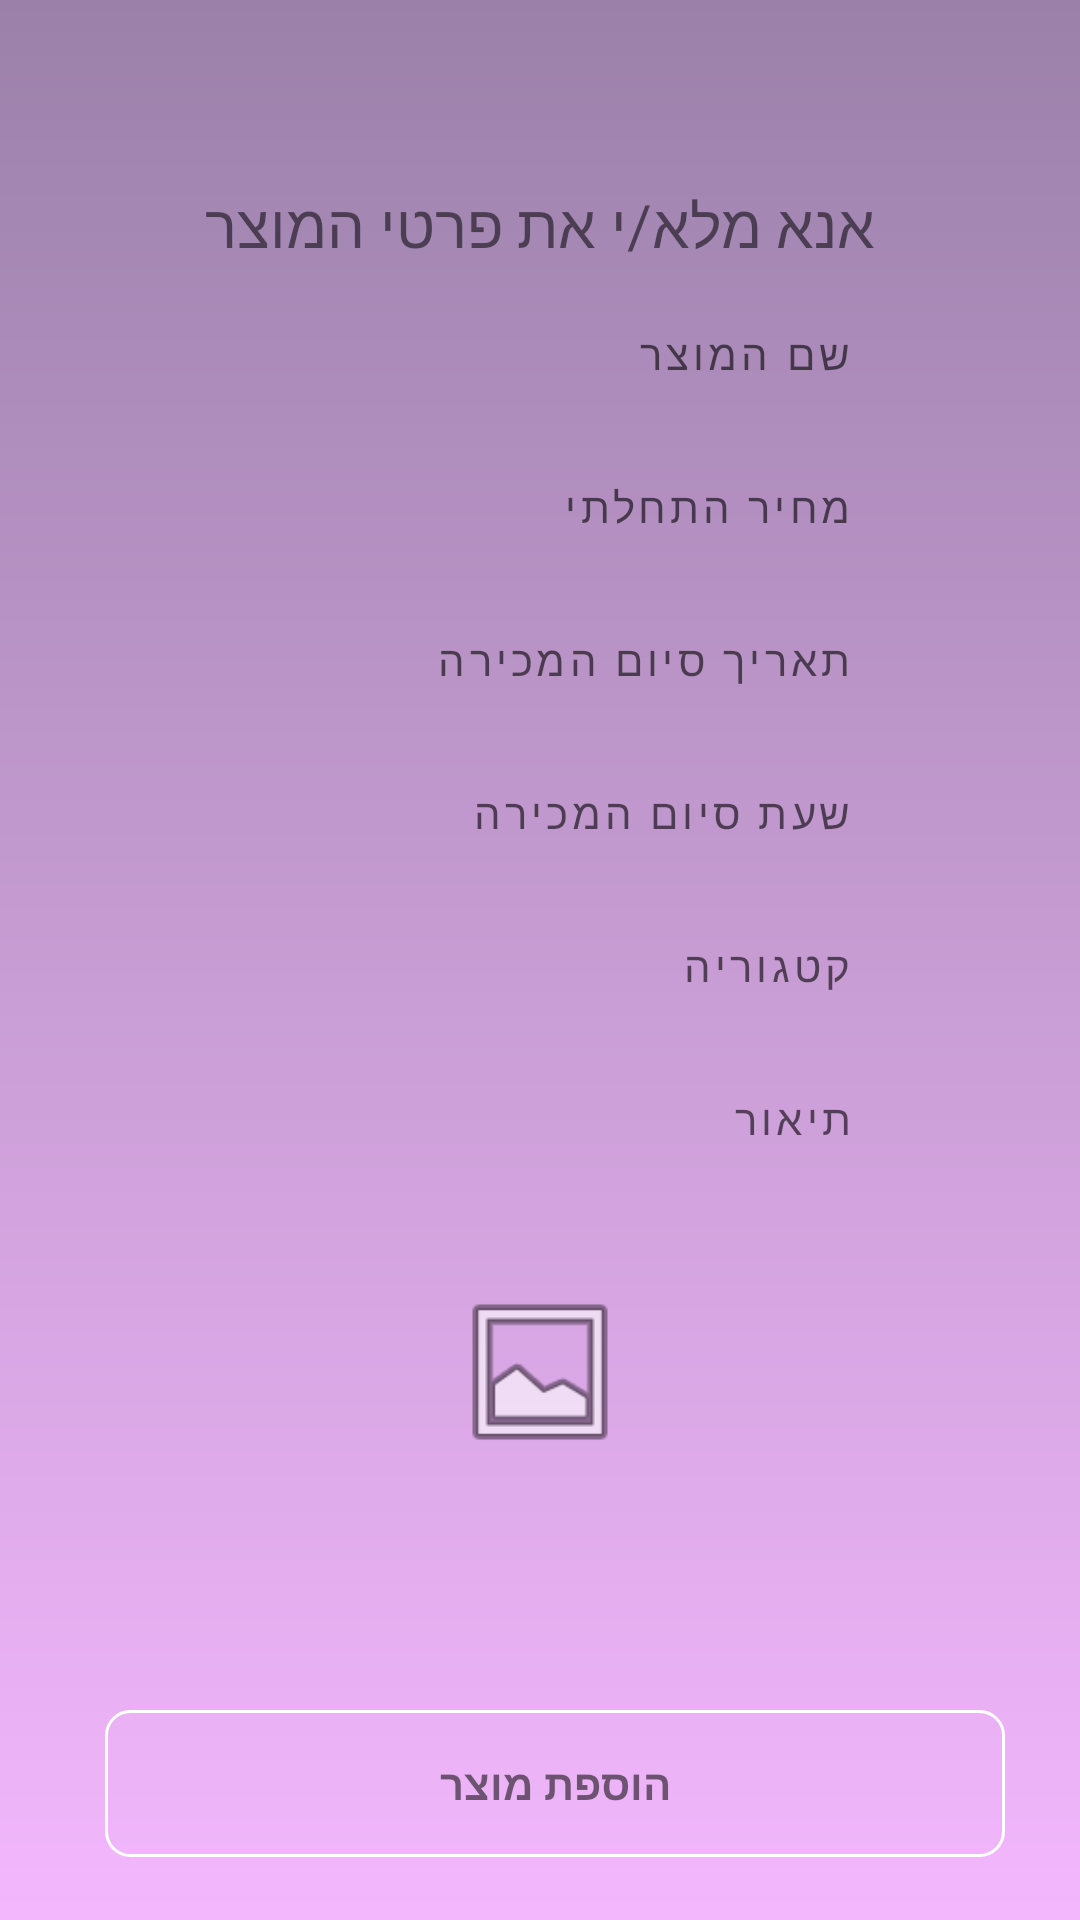

Named icons in this screenshot (1080 × 1920) and their bounding boxes, bbox(x1, y1, x2, y2):
gallery: bbox(472, 1304, 608, 1440)
